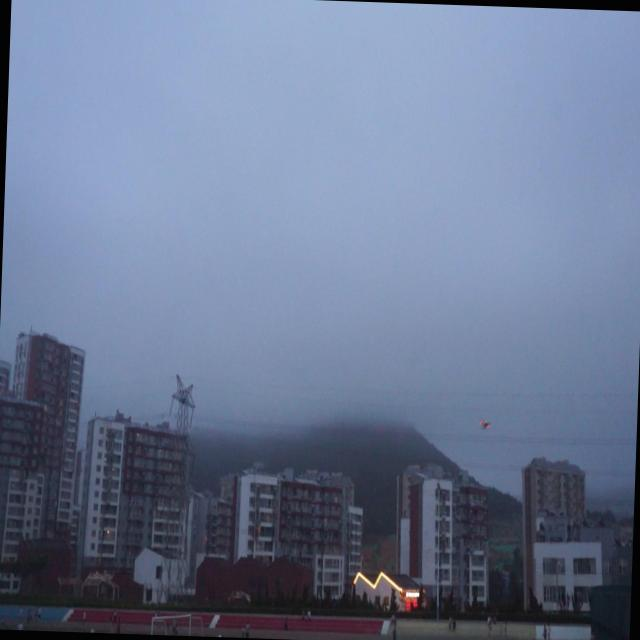drone: (476, 415, 495, 438)
